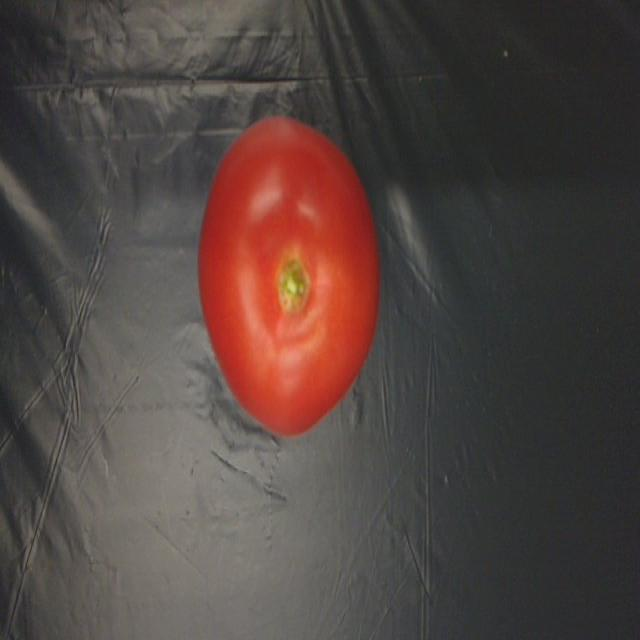kirmizi: (187, 105, 390, 461)
